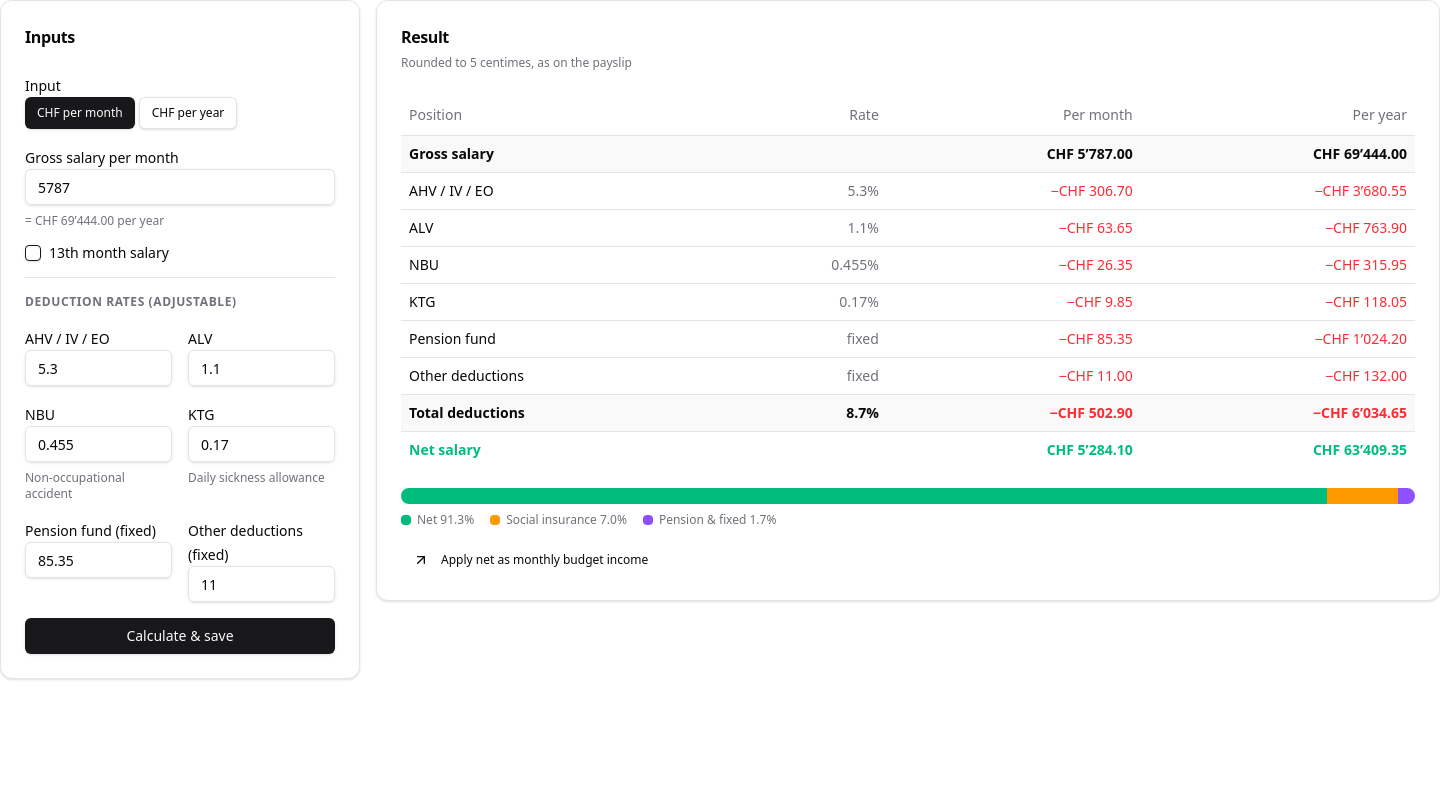
Scenario: SalaryTab › recomputes the monthly gross from an edited yearly value when switching back to monthly mode
The width and height of the screenshot is (1440, 810).
expect the number field labelled "Gross salary per month" is shown: met, box [25,169,335,205]
Step 1. Click the button "CHF per year" → (188, 113), box [139,97,237,129]
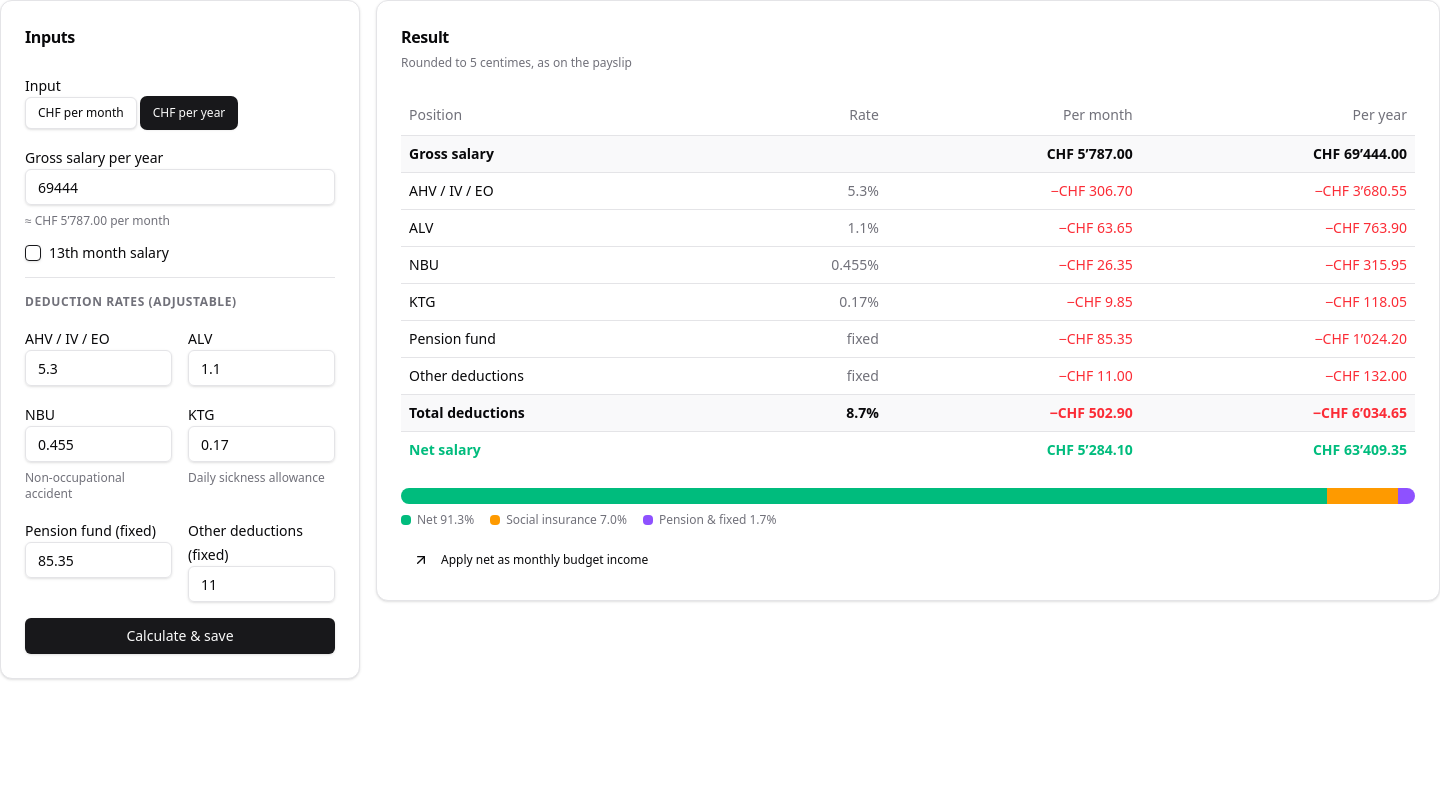
Step 2. Replace the text in the number field labelled "Gross salary per year" with "78000" → (180, 187), box [25,169,335,205]
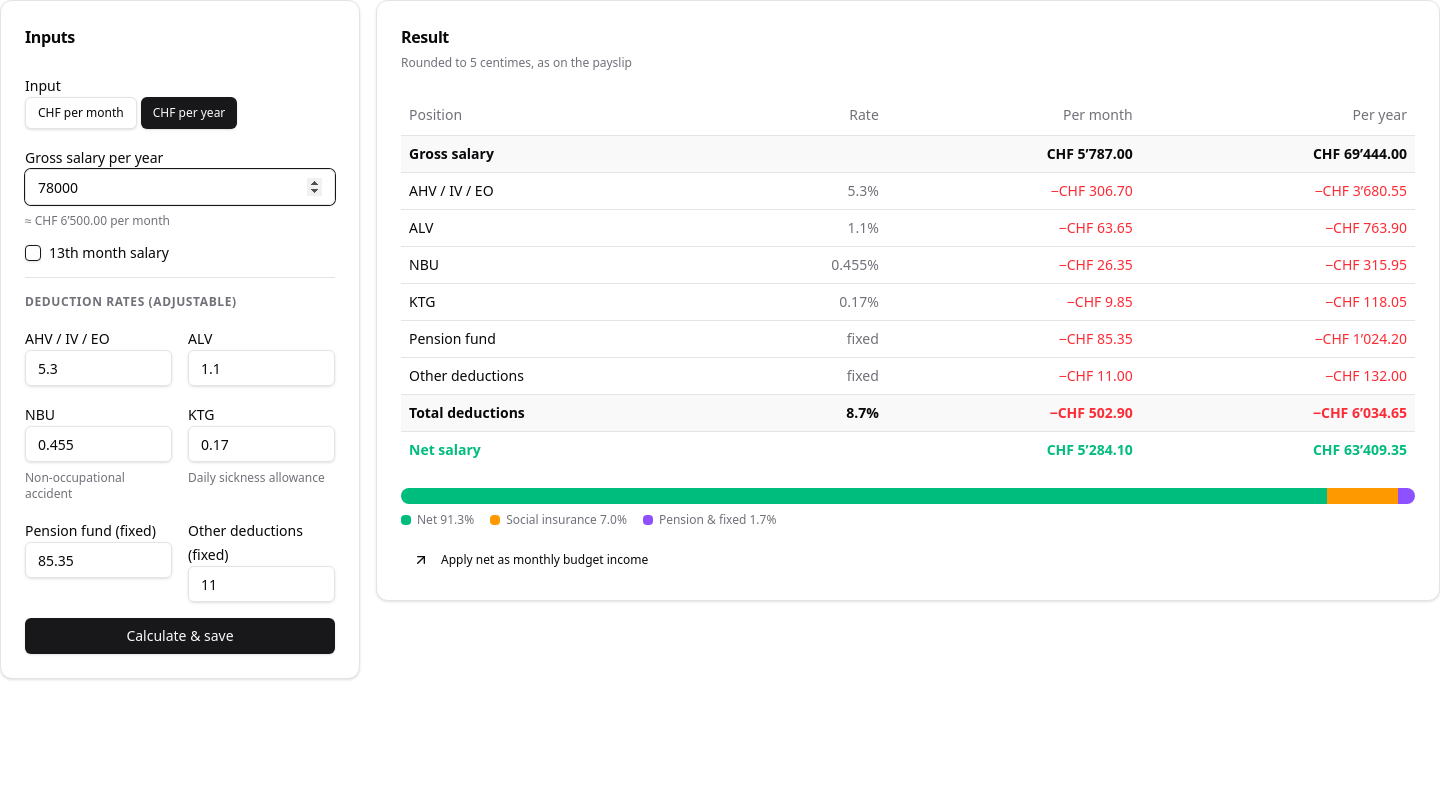
Step 3. Click the button "CHF per month" → (81, 113), box [25,97,137,129]
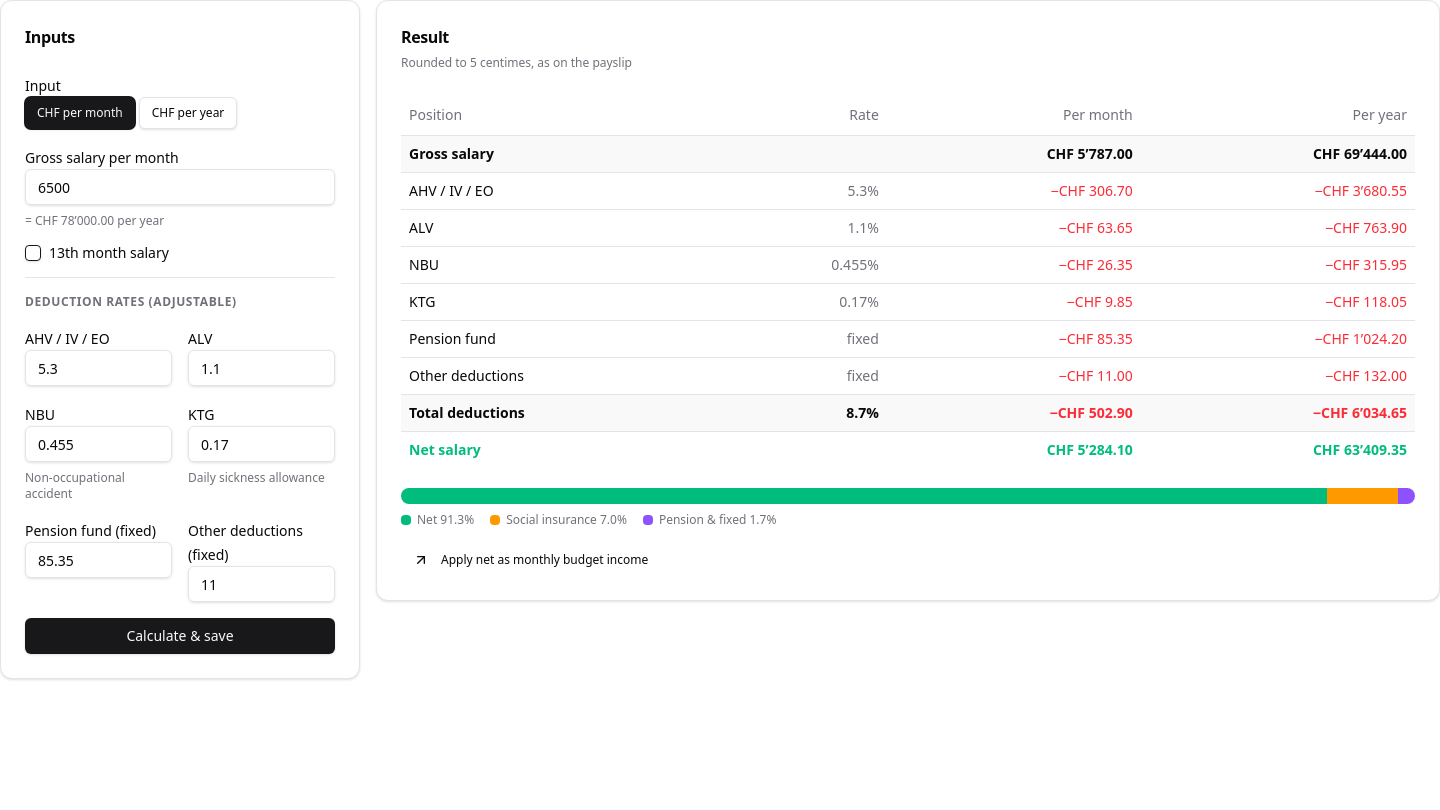
expect the number field labelled "Gross salary per month" holds "6500": met, box [25,169,335,205]
